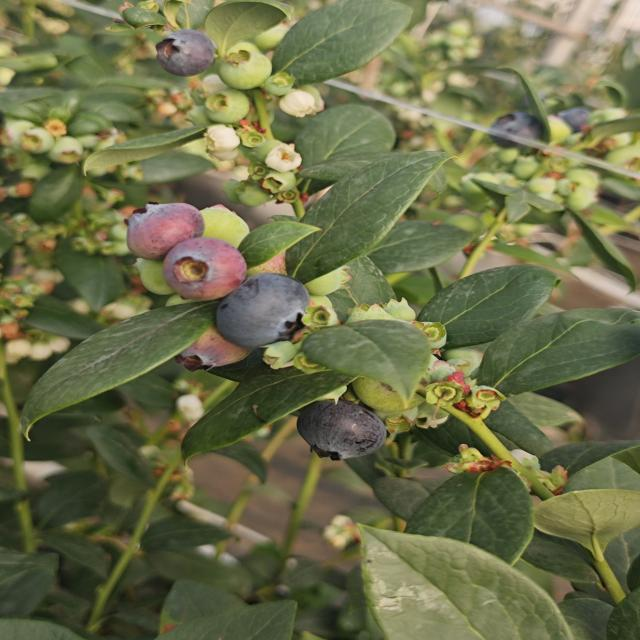ripe: (212, 271, 313, 351), (293, 398, 390, 463), (152, 27, 217, 80), (486, 108, 550, 153), (556, 97, 602, 138)
